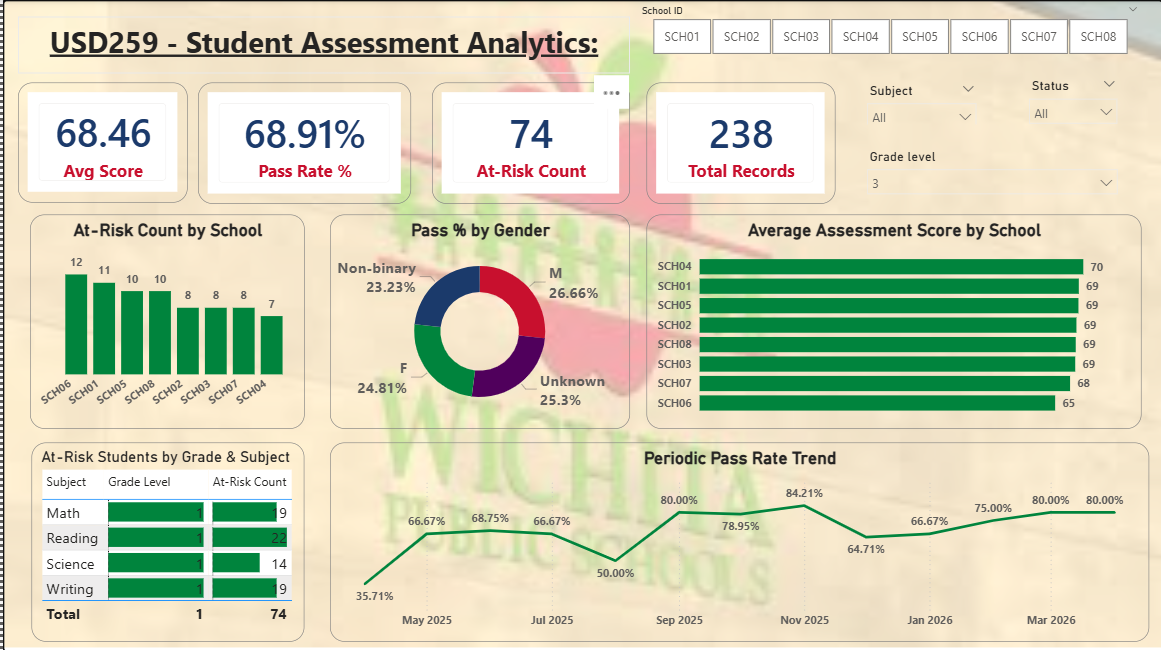

The dashboard page shown, as its layout file describes it:
{"tool":"powerbi","page":{"name":"Page 1","canvas":[1280,720],"ordinal":0},"visuals":[{"type":"cardVisual","fields":{"Data":["New_Measures.Avg Score"]},"box":[16.6,91.1,187.2,132.5],"z":0},{"type":"cardVisual","fields":{"Data":["New_Measures.Pass Rate %"]},"box":[215.3,91.1,235.2,134.2],"z":1000},{"type":"cardVisual","fields":{"Data":["New_Measures.At-Risk Count"]},"box":[473.8,91.1,218.7,134.2],"z":2000},{"type":"cardVisual","fields":{"Data":["New_Measures.Total Records"]},"box":[710.6,91.1,208.7,134.2],"z":3000},{"type":"lineChart","title":"Periodic Pass Rate Trend","fields":{"Category":["fact_assessments.assessment_date.Variation.Date Hierarchy.Year","fact_assessments.assessment_date.Variation.Date Hierarchy.Quarter","fact_assessments.assessment_date.Variation.Date Hierarchy.Month","fact_assessments.assessment_date.Variation.Date Hierarchy.Day"],"Y":["New_Measures.Pass Rate %"]},"box":[361.1,488.7,904.4,220.3],"z":4000},{"type":"tableEx","title":"At-Risk Students by Grade & Subject","fields":{"Values":["fact_assessments.subject","Count(fact_assessments.grade_level)","New_Measures.At-Risk Count"]},"box":[31.5,488.7,301.5,220.3],"z":5000},{"type":"clusteredColumnChart","title":"At-Risk Count by School","fields":{"Category":["fact_assessments.school_id"],"Y":["New_Measures.At-Risk Count"]},"box":[29.8,236.9,303.1,236.9],"z":6000},{"type":"slicer","fields":{"Values":["fact_assessments.subject"]},"box":[944.2,86.1,140.8,51.4],"z":7000},{"type":"slicer","fields":{"Values":["fact_assessments.school_id"]},"box":[692.4,0,573.1,66.3],"z":8000},{"type":"slicer","fields":{"Values":["fact_assessments.pass_fail"]},"box":[1123.1,81.2,117.6,56.3],"z":9000},{"type":"slicer","fields":{"Values":["fact_assessments.grade_level"]},"box":[944.2,159,296.5,64.6],"z":10000},{"type":"clusteredBarChart","title":"Average Assessment Score by School","fields":{"Category":["fact_assessments.school_id"],"Y":["New_Measures.Avg Score"]},"box":[710.6,236.9,546.6,236.9],"z":11000},{"type":"donutChart","title":"Pass % by Gender","fields":{"Category":["fact_assessments.gender"],"Y":["New_Measures.Pass Rate %"]},"box":[361.1,236.9,331.3,236.9],"z":11001},{"type":"textbox","box":[16.6,18.2,675.8,62.9],"z":11002}]}

Visuals, with their boxes in screenshot pixels (x1, y1, x2, y2), scaled from the page's 1280x720 canvas onto the 1161x650 screenshot:
cardVisual - New_Measures.Avg Score: (x1=15, y1=82, x2=185, y2=202)
cardVisual - New_Measures.Pass Rate %: (x1=195, y1=82, x2=409, y2=203)
cardVisual - New_Measures.At-Risk Count: (x1=430, y1=82, x2=628, y2=203)
cardVisual - New_Measures.Total Records: (x1=645, y1=82, x2=834, y2=203)
"Periodic Pass Rate Trend" lineChart: (x1=328, y1=441, x2=1148, y2=640)
"At-Risk Students by Grade & Subject" tableEx: (x1=29, y1=441, x2=302, y2=640)
"At-Risk Count by School" clusteredColumnChart: (x1=27, y1=214, x2=302, y2=428)
slicer - fact_assessments.subject: (x1=856, y1=78, x2=984, y2=124)
slicer - fact_assessments.school_id: (x1=628, y1=0, x2=1148, y2=60)
slicer - fact_assessments.pass_fail: (x1=1019, y1=73, x2=1125, y2=124)
slicer - fact_assessments.grade_level: (x1=856, y1=144, x2=1125, y2=202)
"Average Assessment Score by School" clusteredBarChart: (x1=645, y1=214, x2=1140, y2=428)
"Pass % by Gender" donutChart: (x1=328, y1=214, x2=628, y2=428)
textbox: (x1=15, y1=16, x2=628, y2=73)
